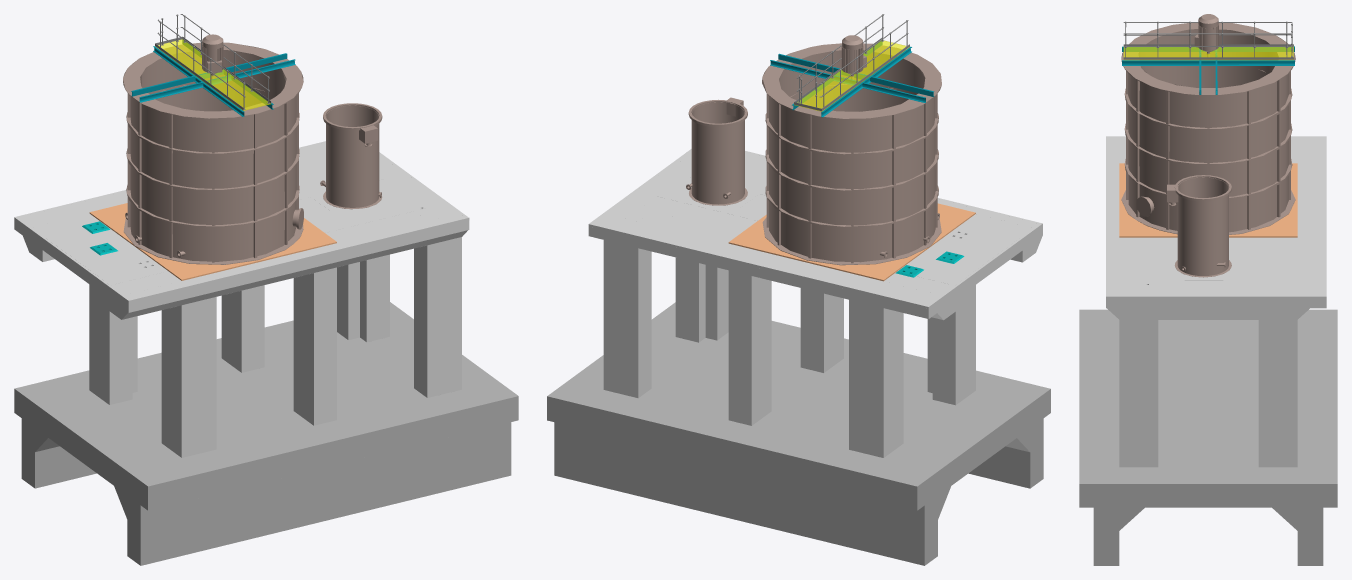
The model's file is Sample3D.glb.
3 renders of one model, left to right at view 1: azimuth 30°, elevation 25°; view 2: azimuth 150°, elevation 25°; view 3: azimuth 270°, elevation 25°, orthographic. The views are drawn at different scales.
Parts seen in each view (by area): view 1: BOX_6_of_SUBSTRUCTURE_39_of_STRUCTURE_FeedTankPlatformNewdgn, CYLINDER_1_of_SUBEQUIPMENT_1_of_EQUIPMENT_C44-TA-03-, BOX_3_of_SUBSTRUCTURE_11_of_STRUCTURE_FeedTankPlatformNewdgn, BOX_3_of_SUBSTRUCTURE_39_of_STRUCTURE_FeedTankPlatformNewdgn, BOX_2_of_SUBSTRUCTURE_15_of_STRUCTURE_FeedTankPlatformNewdgn, POHEDRON_2_of_SUBSTRUCTURE_14_of_STRUCTURE_FeedTankPlatformN, CYLINDER_1_of_SUBEQUIPMENT_2_of_EQUIPMENT_C44-TA-06, BOX_161_of_SUBSTRUCTURE_37_of_STRUCTURE_FeedTankPlatformNewd, BOX_4_of_SUBSTRUCTURE_36_of_STRUCTURE_FeedTankPlatformNewdgn, EXTRUSION_3_of_SUBSTRUCTURE_37_of_STRUCTURE_FeedTankPlatform, BOX_4_of_SUBSTRUCTURE_39_of_STRUCTURE_FeedTankPlatformNewdgn, CYLINDER_7_of_SUBEQUIPMENT_1_of_EQUIPMENT_C44-TA-03- (+34 smaller); view 2: BOX_6_of_SUBSTRUCTURE_39_of_STRUCTURE_FeedTankPlatformNewdgn, CYLINDER_1_of_SUBEQUIPMENT_1_of_EQUIPMENT_C44-TA-03-, BOX_1_of_SUBSTRUCTURE_10_of_STRUCTURE_FeedTankPlatformNewdgn, BOX_1_of_SUBSTRUCTURE_39_of_STRUCTURE_FeedTankPlatformNewdgn, POHEDRON_4_of_SUBSTRUCTURE_12_of_STRUCTURE_FeedTankPlatformN, BOX_2_of_SUBSTRUCTURE_13_of_STRUCTURE_FeedTankPlatformNewdgn, CYLINDER_1_of_SUBEQUIPMENT_2_of_EQUIPMENT_C44-TA-06, BOX_72_of_SUBSTRUCTURE_37_of_STRUCTURE_FeedTankPlatformNewdg, BOX_4_of_SUBSTRUCTURE_35_of_STRUCTURE_FeedTankPlatformNewdgn, BOX_66_of_SUBSTRUCTURE_37_of_STRUCTURE_FeedTankPlatformNewdg, EXTRUSION_3_of_SUBSTRUCTURE_37_of_STRUCTURE_FeedTankPlatform, BOX_4_of_SUBSTRUCTURE_39_of_STRUCTURE_FeedTankPlatformNewdgn (+32 smaller); view 3: BOX_6_of_SUBSTRUCTURE_39_of_STRUCTURE_FeedTankPlatformNewdgn, CYLINDER_1_of_SUBEQUIPMENT_1_of_EQUIPMENT_C44-TA-03-, BOX_8_of_SUBSTRUCTURE_12_of_STRUCTURE_FeedTankPlatformNewdgn, BOX_8_of_SUBSTRUCTURE_14_of_STRUCTURE_FeedTankPlatformNewdgn, BOX_2_of_SUBSTRUCTURE_39_of_STRUCTURE_FeedTankPlatformNewdgn, CYLINDER_1_of_SUBEQUIPMENT_2_of_EQUIPMENT_C44-TA-06, BOX_72_of_SUBSTRUCTURE_37_of_STRUCTURE_FeedTankPlatformNewdg, CYLINDER_7_of_SUBEQUIPMENT_1_of_EQUIPMENT_C44-TA-03-, EXTRUSION_1_of_SUBSTRUCTURE_9_of_STRUCTURE_FeedTankPlatformN, BOX_7_of_SUBSTRUCTURE_28_of_STRUCTURE_FeedTankPlatformNewdgn, BOX_1_of_SUBSTRUCTURE_1_of_STRUCTURE_2_of_ZONE_C44-TA-03, BOX_154_of_SUBSTRUCTURE_37_of_STRUCTURE_FeedTankPlatformNewd (+28 smaller).
Boxes of the visible parts, x1,y1,x2,y2 form: BOX_6_of_SUBSTRUCTURE_39_of_STRUCTURE_FeedTankPlatformNewdgn: (14, 302, 518, 486); CYLINDER_1_of_SUBEQUIPMENT_1_of_EQUIPMENT_C44-TA-03-: (130, 50, 296, 261); BOX_3_of_SUBSTRUCTURE_11_of_STRUCTURE_FeedTankPlatformNewdgn: (140, 422, 511, 565); BOX_3_of_SUBSTRUCTURE_39_of_STRUCTURE_FeedTankPlatformNewdgn: (148, 396, 518, 510); BOX_2_of_SUBSTRUCTURE_15_of_STRUCTURE_FeedTankPlatformNewdgn: (181, 297, 216, 457); POHEDRON_2_of_SUBSTRUCTURE_14_of_STRUCTURE_FeedTankPlatformN: (427, 237, 461, 397); CYLINDER_1_of_SUBEQUIPMENT_2_of_EQUIPMENT_C44-TA-06: (326, 105, 379, 207); BOX_161_of_SUBSTRUCTURE_37_of_STRUCTURE_FeedTankPlatformNewd: (128, 220, 469, 312); BOX_4_of_SUBSTRUCTURE_36_of_STRUCTURE_FeedTankPlatformNewdgn: (314, 267, 336, 425); EXTRUSION_3_of_SUBSTRUCTURE_37_of_STRUCTURE_FeedTankPlatform: (45, 223, 167, 285); BOX_4_of_SUBSTRUCTURE_39_of_STRUCTURE_FeedTankPlatformNewdgn: (14, 389, 147, 510); CYLINDER_7_of_SUBEQUIPMENT_1_of_EQUIPMENT_C44-TA-03-: (123, 42, 303, 118); BOX_6_of_SUBSTRUCTURE_39_of_STRUCTURE_FeedTankPlatformNewdgn: (547, 302, 1050, 486); CYLINDER_1_of_SUBEQUIPMENT_1_of_EQUIPMENT_C44-TA-03-: (769, 51, 935, 262); BOX_1_of_SUBSTRUCTURE_10_of_STRUCTURE_FeedTankPlatformNewdgn: (554, 422, 924, 565); BOX_1_of_SUBSTRUCTURE_39_of_STRUCTURE_FeedTankPlatformNewdgn: (547, 396, 917, 510); POHEDRON_4_of_SUBSTRUCTURE_12_of_STRUCTURE_FeedTankPlatformN: (603, 240, 638, 397); BOX_2_of_SUBSTRUCTURE_13_of_STRUCTURE_FeedTankPlatformNewdgn: (849, 300, 883, 457); CYLINDER_1_of_SUBEQUIPMENT_2_of_EQUIPMENT_C44-TA-06: (691, 102, 744, 204); BOX_72_of_SUBSTRUCTURE_37_of_STRUCTURE_FeedTankPlatformNewdg: (592, 213, 940, 305); BOX_4_of_SUBSTRUCTURE_35_of_STRUCTURE_FeedTankPlatformNewdgn: (728, 270, 751, 425); BOX_66_of_SUBSTRUCTURE_37_of_STRUCTURE_FeedTankPlatformNewdg: (588, 226, 928, 318); EXTRUSION_3_of_SUBSTRUCTURE_37_of_STRUCTURE_FeedTankPlatform: (897, 223, 1019, 285); BOX_4_of_SUBSTRUCTURE_39_of_STRUCTURE_FeedTankPlatformNewdgn: (917, 389, 1050, 510); BOX_6_of_SUBSTRUCTURE_39_of_STRUCTURE_FeedTankPlatformNewdgn: (1079, 309, 1337, 484); CYLINDER_1_of_SUBEQUIPMENT_1_of_EQUIPMENT_C44-TA-03-: (1128, 29, 1288, 232); BOX_8_of_SUBSTRUCTURE_12_of_STRUCTURE_FeedTankPlatformNewdgn: (1258, 299, 1297, 467); BOX_8_of_SUBSTRUCTURE_14_of_STRUCTURE_FeedTankPlatformNewdgn: (1119, 299, 1158, 467); BOX_2_of_SUBSTRUCTURE_39_of_STRUCTURE_FeedTankPlatformNewdgn: (1079, 484, 1337, 507); CYLINDER_1_of_SUBEQUIPMENT_2_of_EQUIPMENT_C44-TA-06: (1177, 177, 1228, 275); BOX_72_of_SUBSTRUCTURE_37_of_STRUCTURE_FeedTankPlatformNewdg: (1297, 137, 1323, 295); CYLINDER_7_of_SUBEQUIPMENT_1_of_EQUIPMENT_C44-TA-03-: (1121, 23, 1295, 95); EXTRUSION_1_of_SUBSTRUCTURE_9_of_STRUCTURE_FeedTankPlatformN: (1119, 163, 1297, 236); BOX_7_of_SUBSTRUCTURE_28_of_STRUCTURE_FeedTankPlatformNewdgn: (1158, 299, 1258, 319); BOX_1_of_SUBSTRUCTURE_1_of_STRUCTURE_2_of_ZONE_C44-TA-03: (1123, 47, 1293, 60); BOX_154_of_SUBSTRUCTURE_37_of_STRUCTURE_FeedTankPlatformNewd: (1108, 137, 1119, 295).
Size of the model in its own units: 8.13 by 9.33 by 5.
